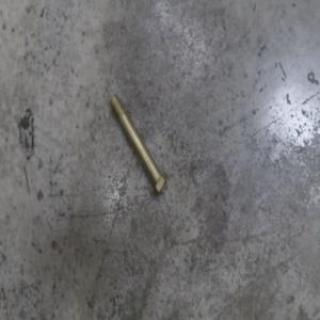Bolttrack_idkeyframe: (108, 91, 168, 196)
